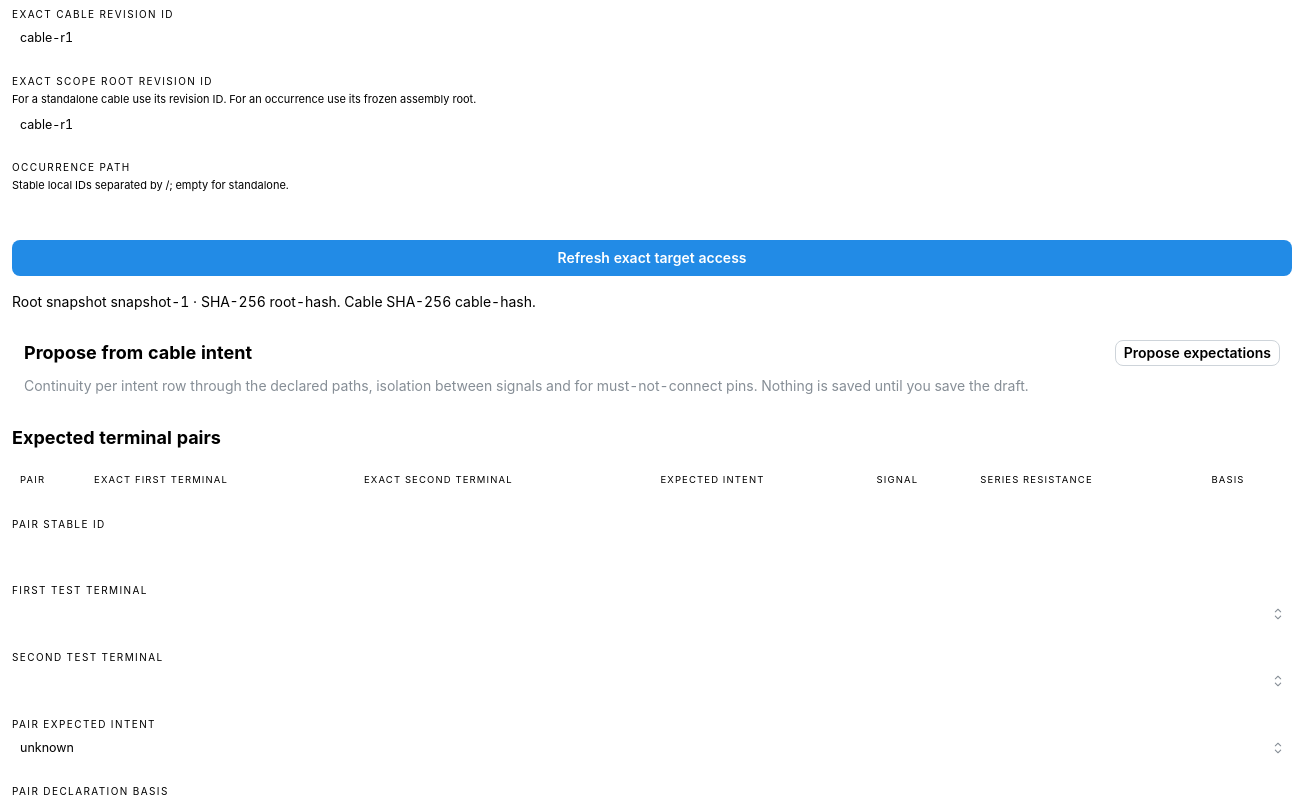
it: a proposal from the cable intent fills unsaved pairs and labels only when chosen
The width and height of the screenshot is (1304, 800).
Click the button "Propose expectations".
click(1197, 353)  # box [1115,340,1280,366]
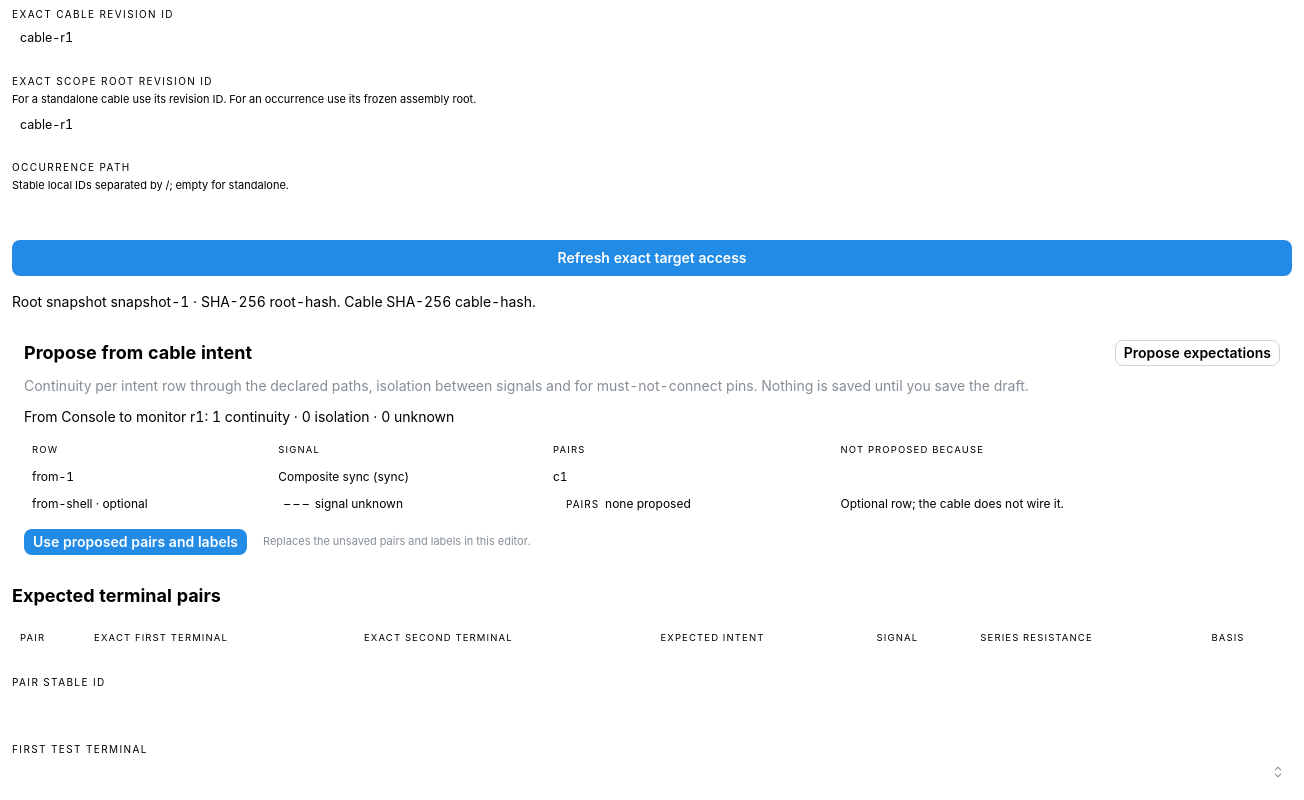
Now the text "1 continuity · 0 isolation · 0 unknown" is shown, box [24,408,454,425]
Now the text "Optional row; the cable does not wire it." is shown, box [832,490,1280,519]
Now the text "signal unknown" is shown, box [315,495,403,514]
Click the button "Use proposed pairs and labels".
click(136, 542)  # box [24,529,247,555]
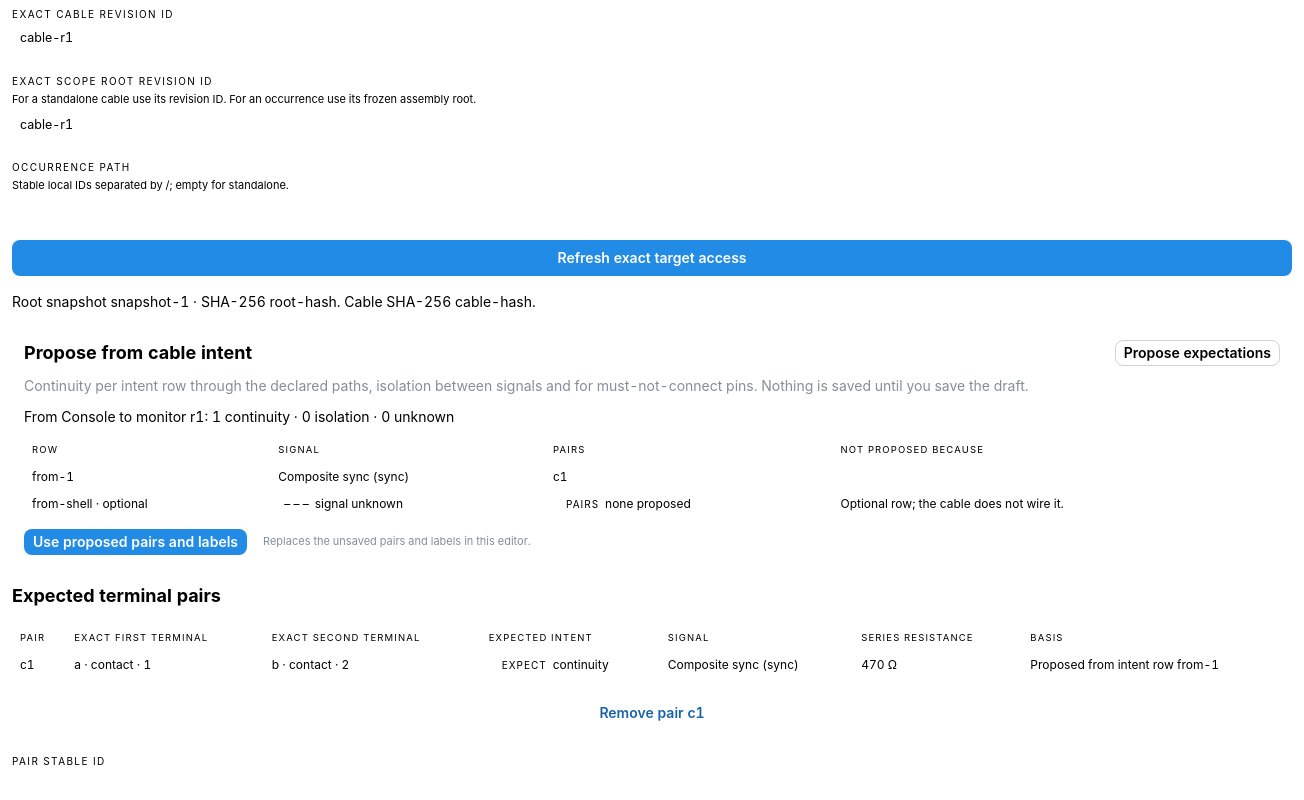
Now the text "470 Ω" is shown, box [853,652,1022,679]
